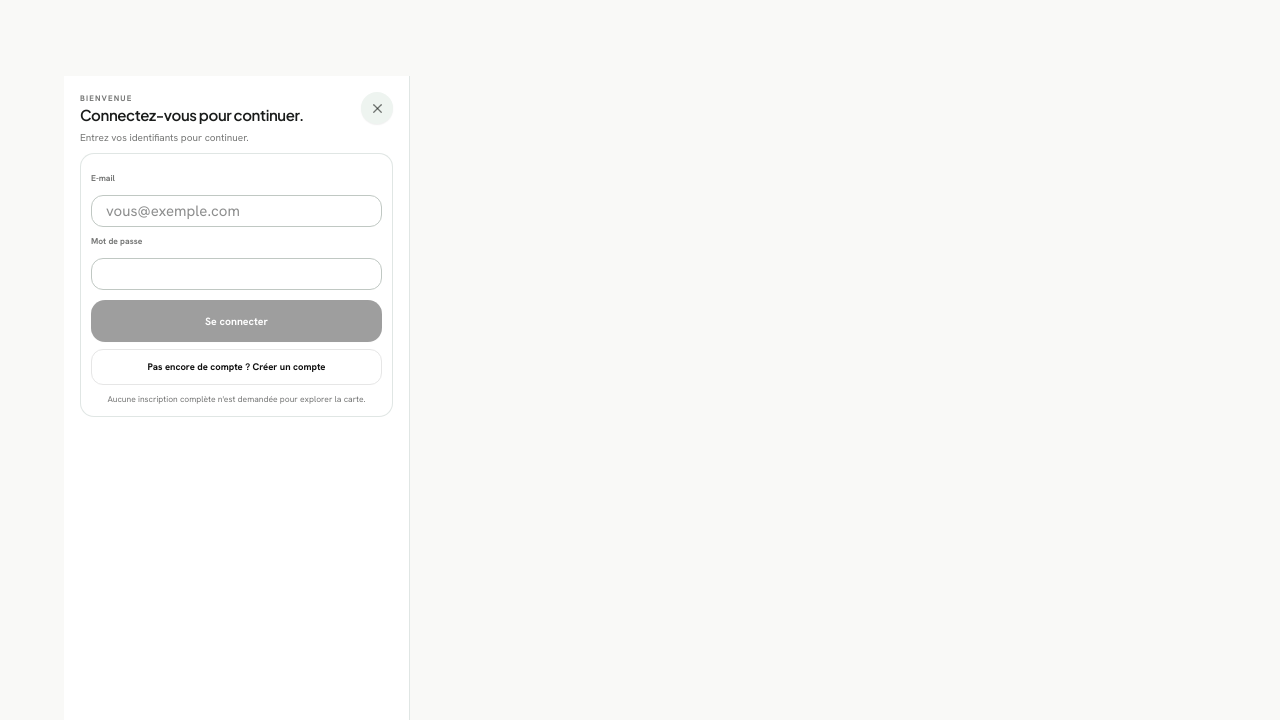
it: AUTH-CREATE — l'écran auth permet de CRÉER un compte (bug fondateur 2026-10-07) › bascule création ↔ connexion sur la même surface
Click the button with class "ghost" at (236, 367), box [91,349,382,385]
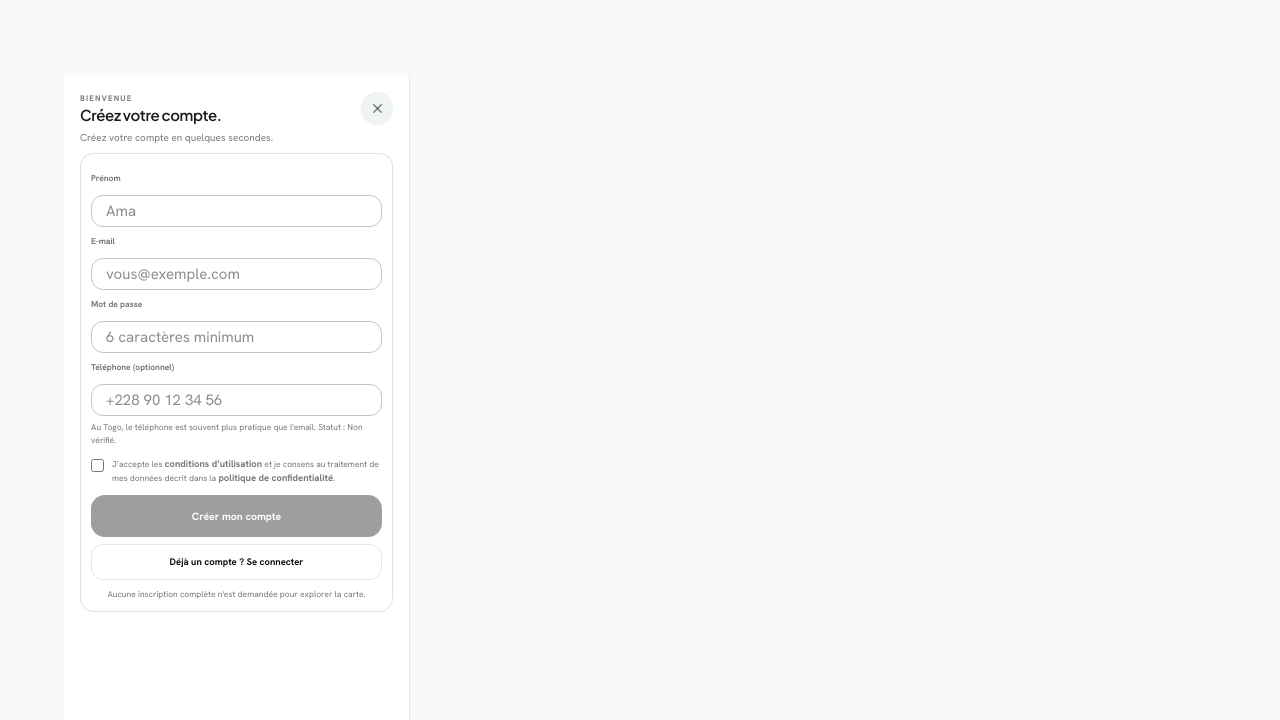
Expected: the text "Créez votre compte." is shown, [80,104,222,126]
Expected: the button with class "ghost" shows "Se connecter", [91,544,382,580]
